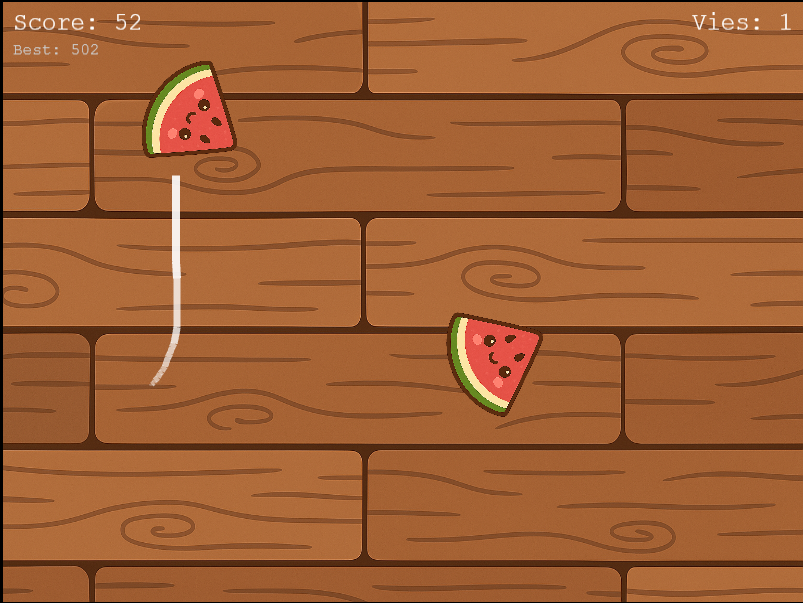fruit: (443, 306, 546, 421), (135, 57, 245, 163)
